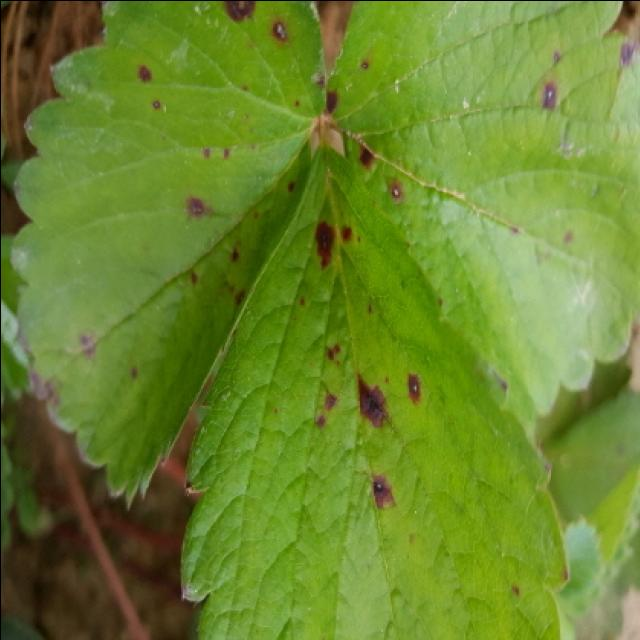Leaf Spot: (177, 139, 571, 640), (9, 2, 325, 510), (325, 2, 640, 440)
